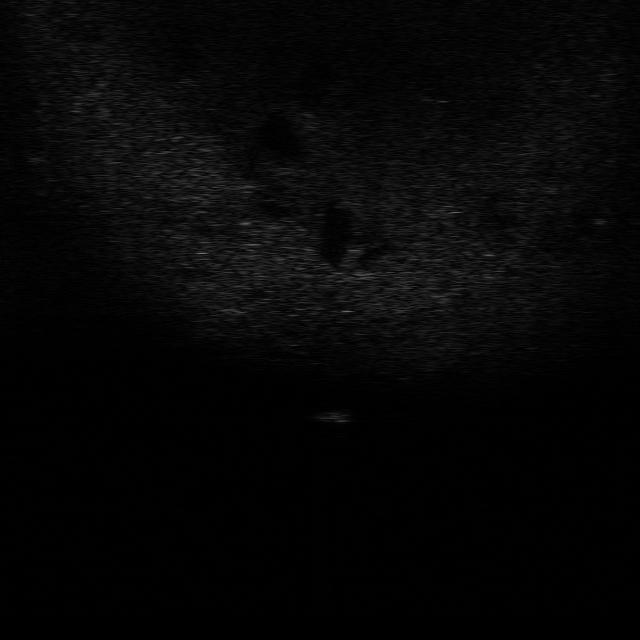cube: (312, 407, 352, 425)
